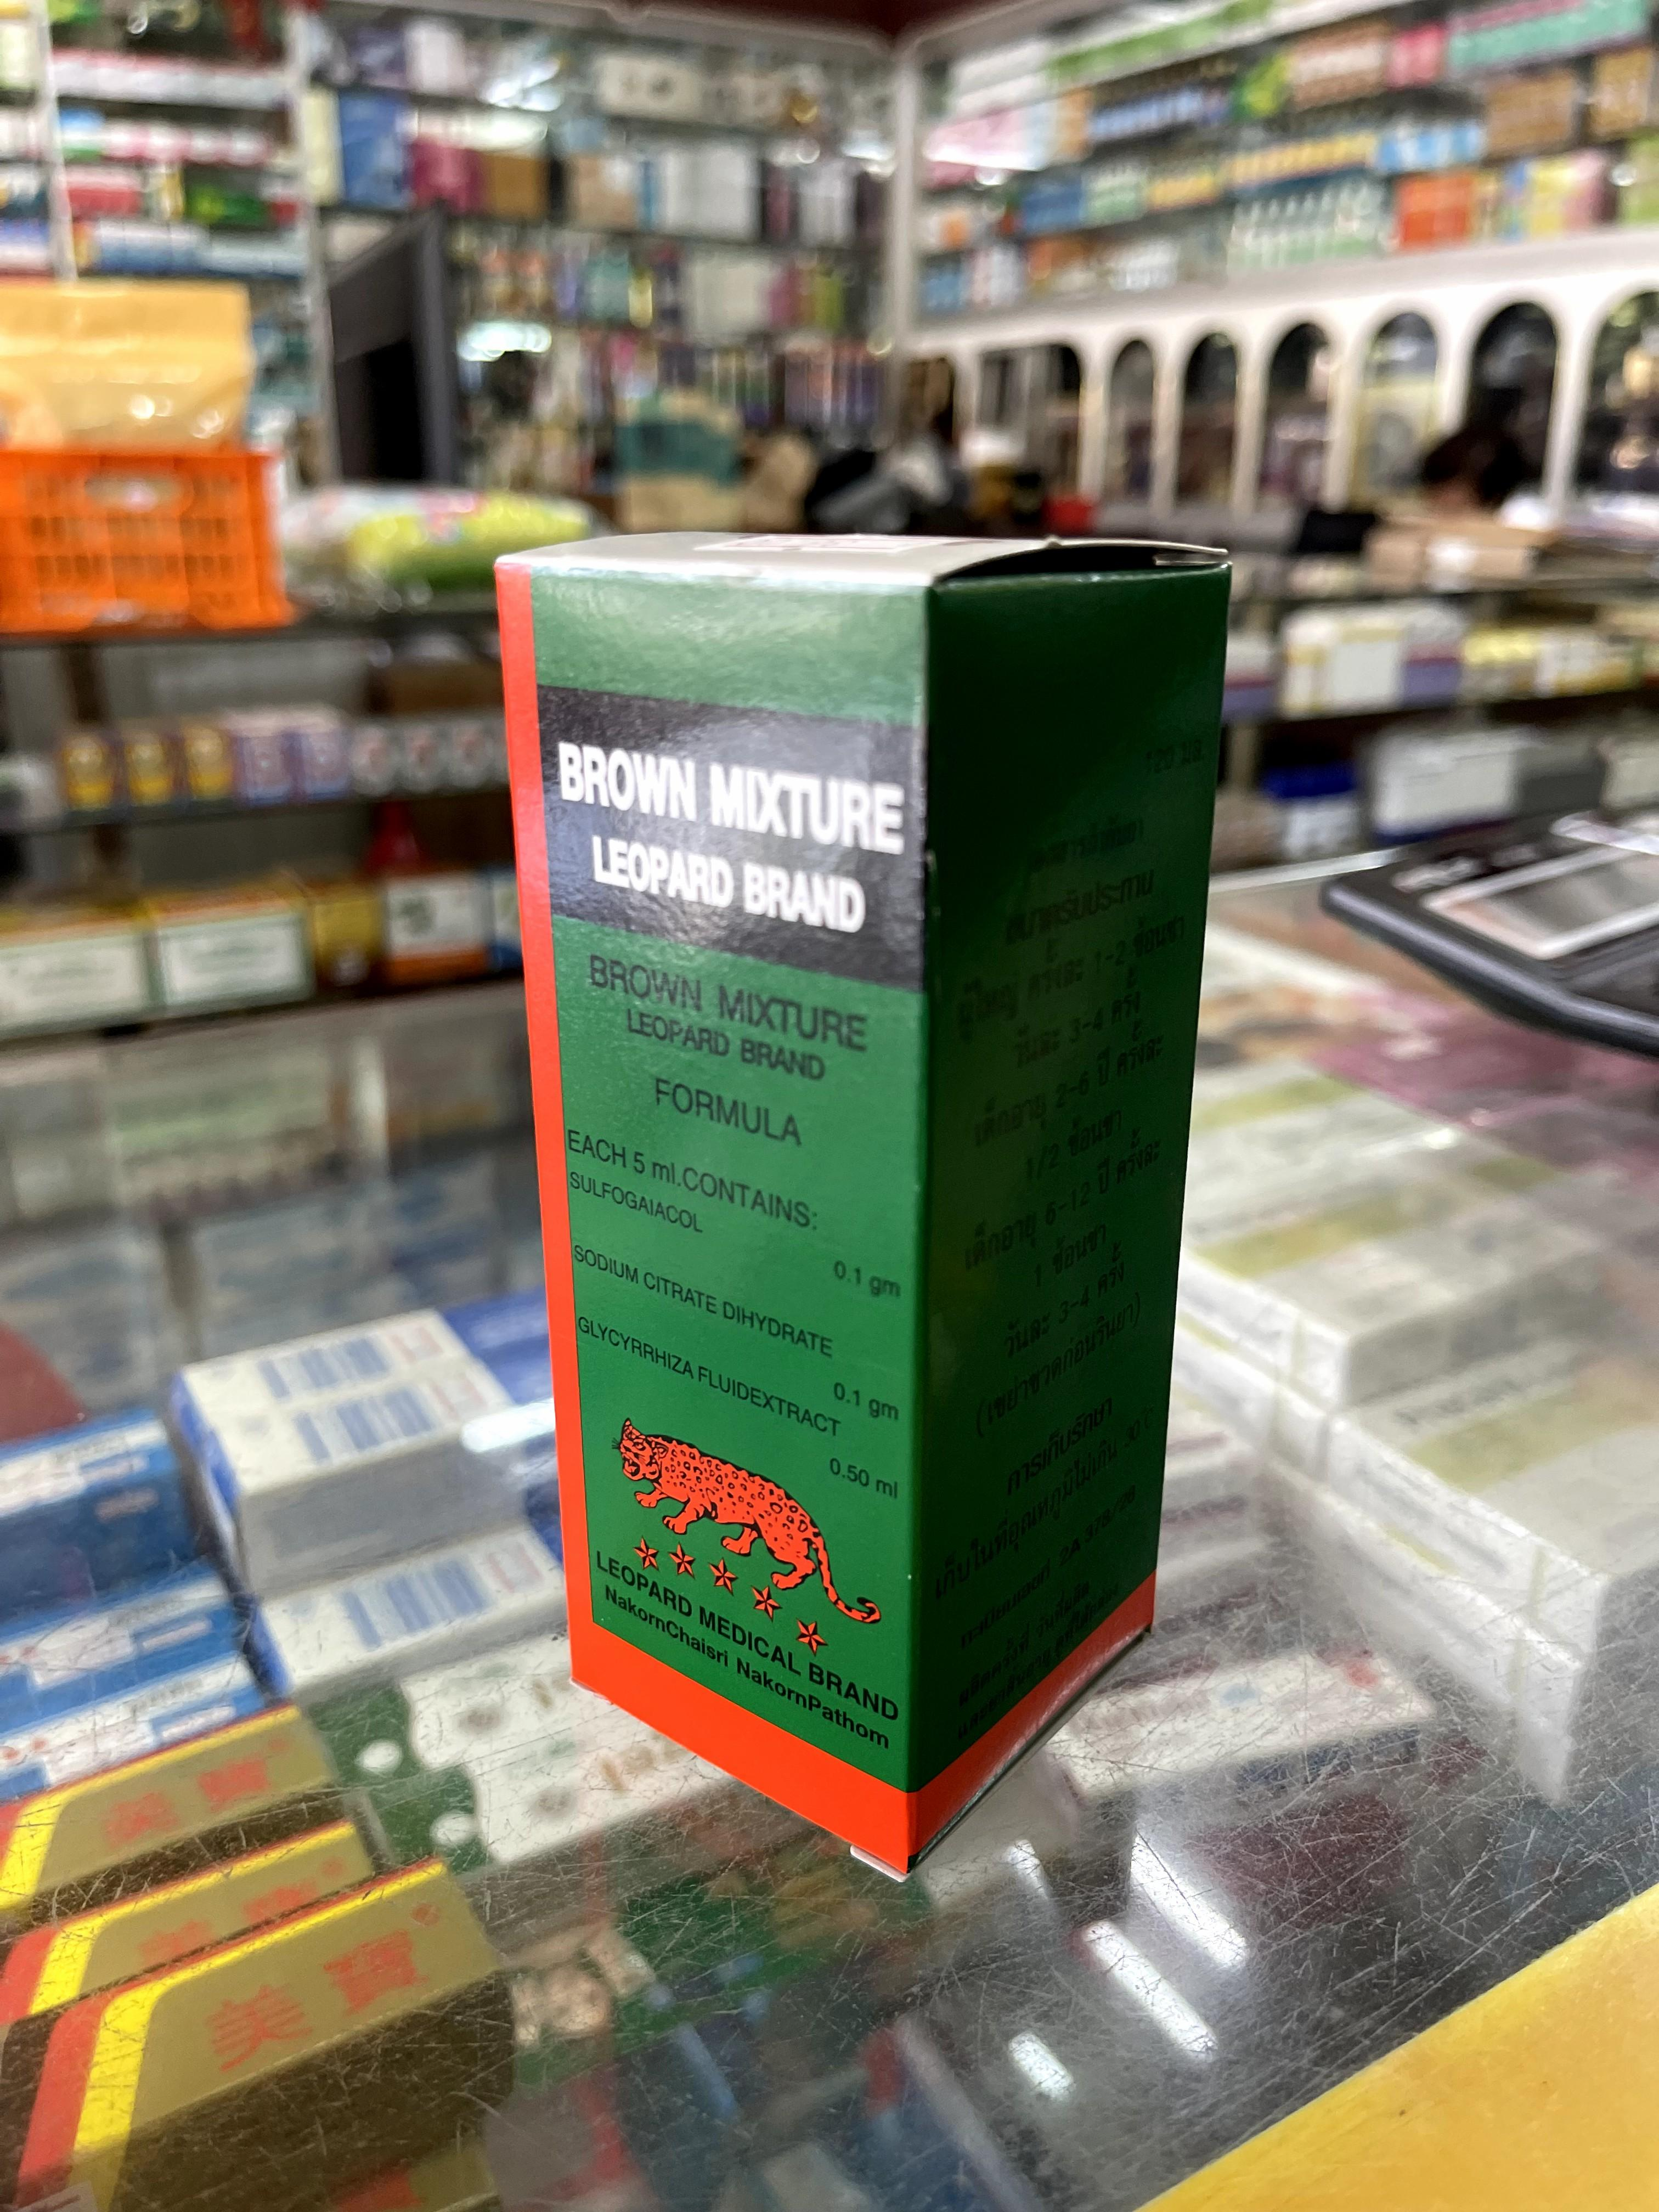Black-Tiger_Big: (507, 529, 1220, 1871)
